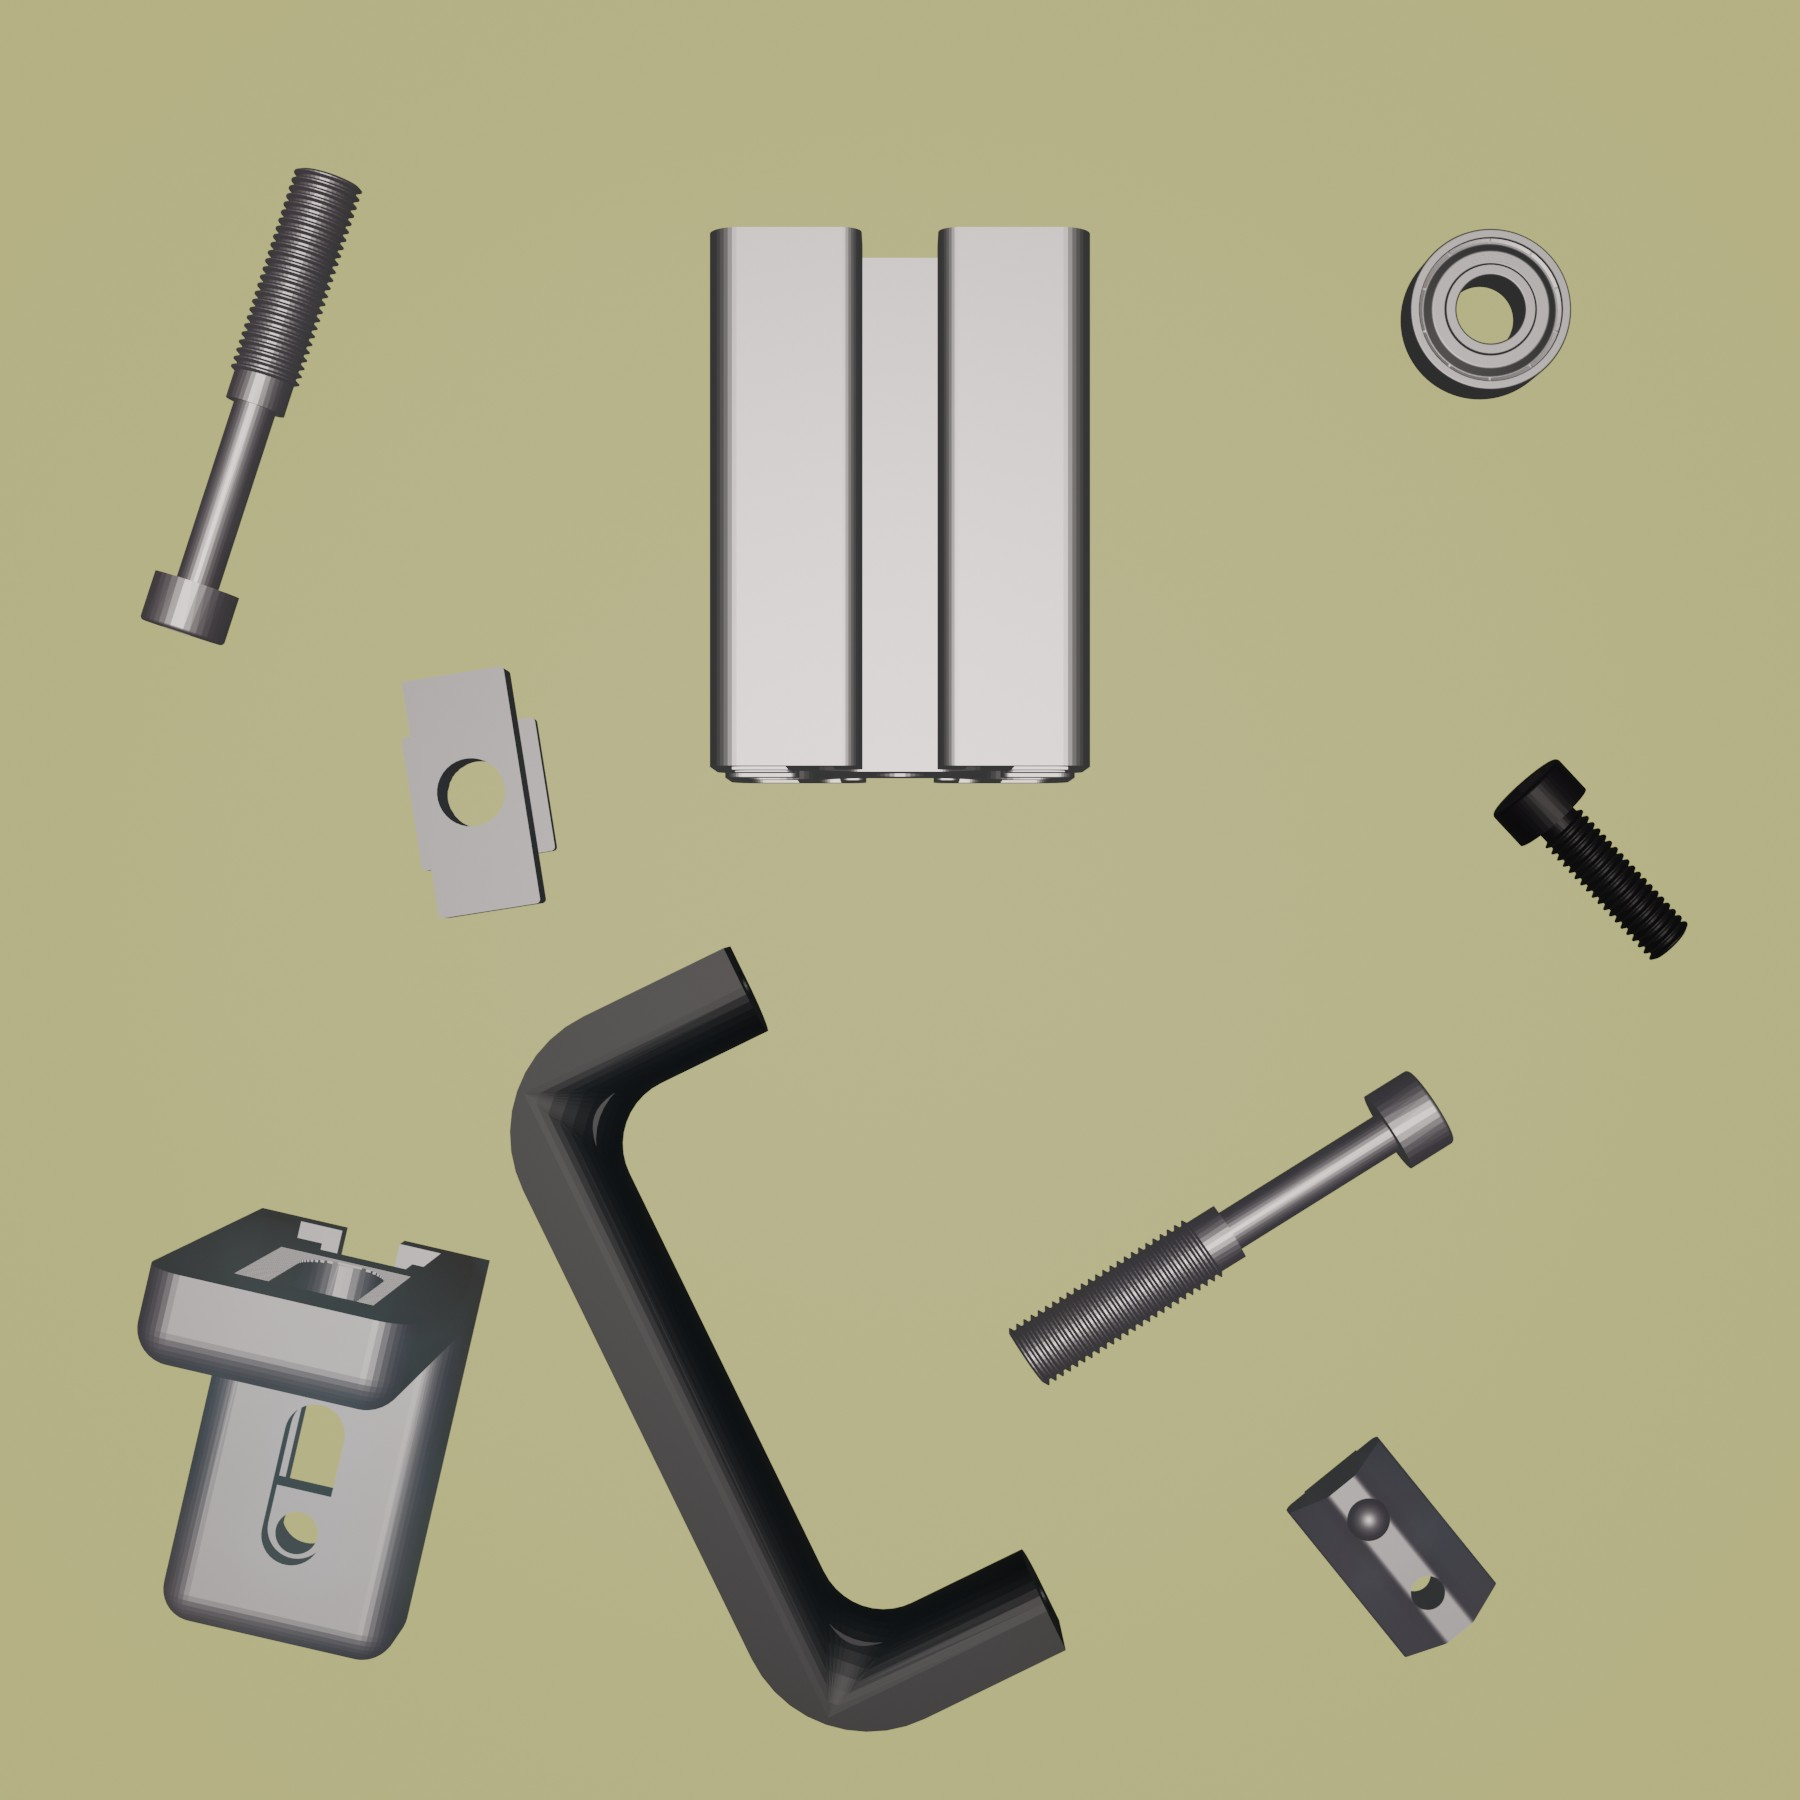Aluminium Extension: (701, 218, 1098, 791)
Ball Bearing: (1399, 224, 1573, 401)
Multiwinkel: (135, 1202, 495, 1662)
Pull Handle: (508, 945, 1070, 1736)
Shoulder Socket Head Cap Screw: (1004, 1068, 1455, 1385), (138, 163, 364, 649)
Socket Head Cap Screw: (1488, 757, 1690, 959)
T Nut Square: (397, 664, 559, 921)
T Spring Nut: (1282, 1436, 1497, 1658)
